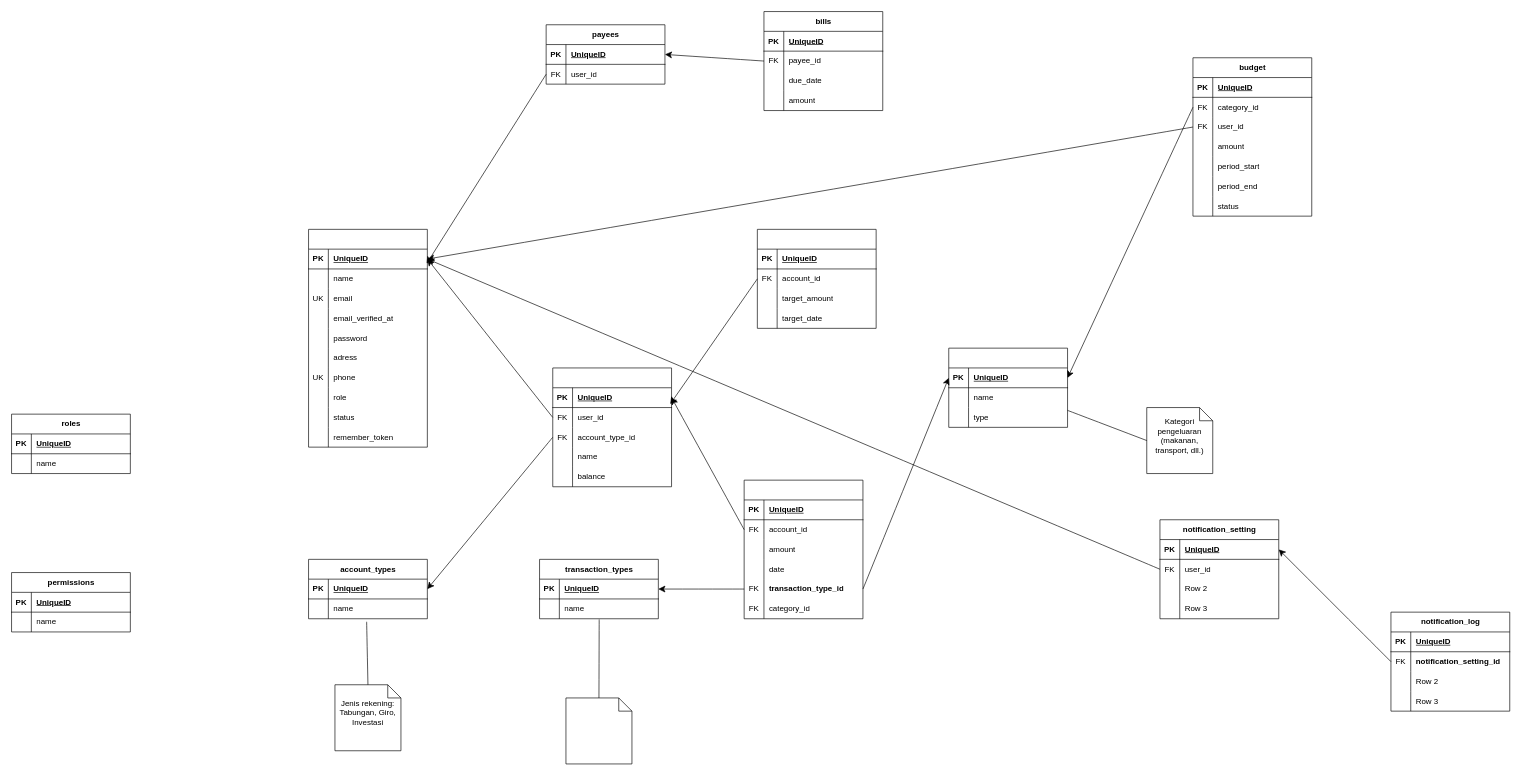
Image size: 1521x776. Some labels were removed from this diagram. The shapes that lost their labels are listed below. From the top down, each one's box as (x1, y1, x2, y2) in pixels, then its label:
(757, 229, 876, 328): saving_pots
(308, 229, 427, 447): users
(948, 347, 1068, 427): categories
(552, 367, 672, 487): accounts
(743, 479, 863, 619): transactions
(565, 697, 632, 764): Tipe Transaksi: Income, Expense, Transfer/Internal Transfer
